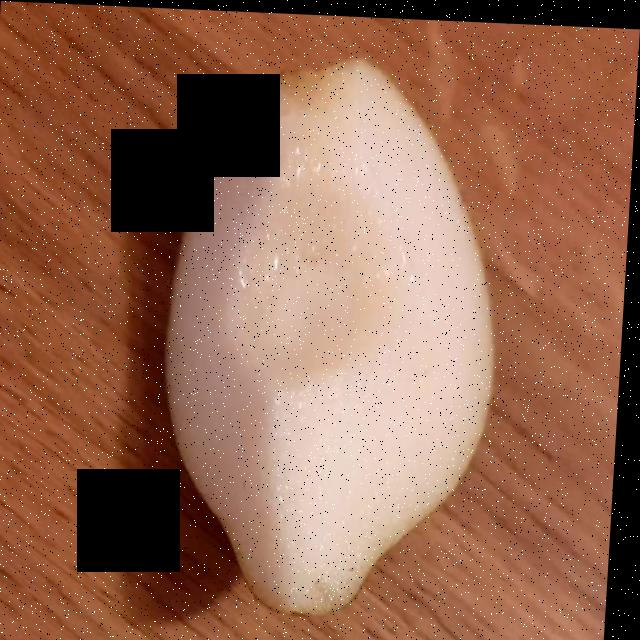pear: (174, 39, 494, 615)
